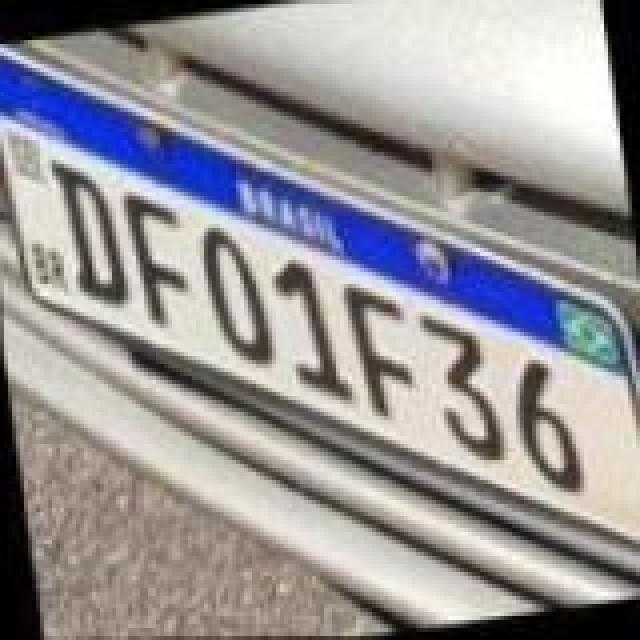1: (264, 244, 352, 408)
3: (414, 300, 502, 472)
6: (504, 346, 584, 502)
D: (42, 148, 126, 316)
F: (336, 270, 416, 418), (116, 180, 192, 328)
O: (190, 210, 270, 370)
